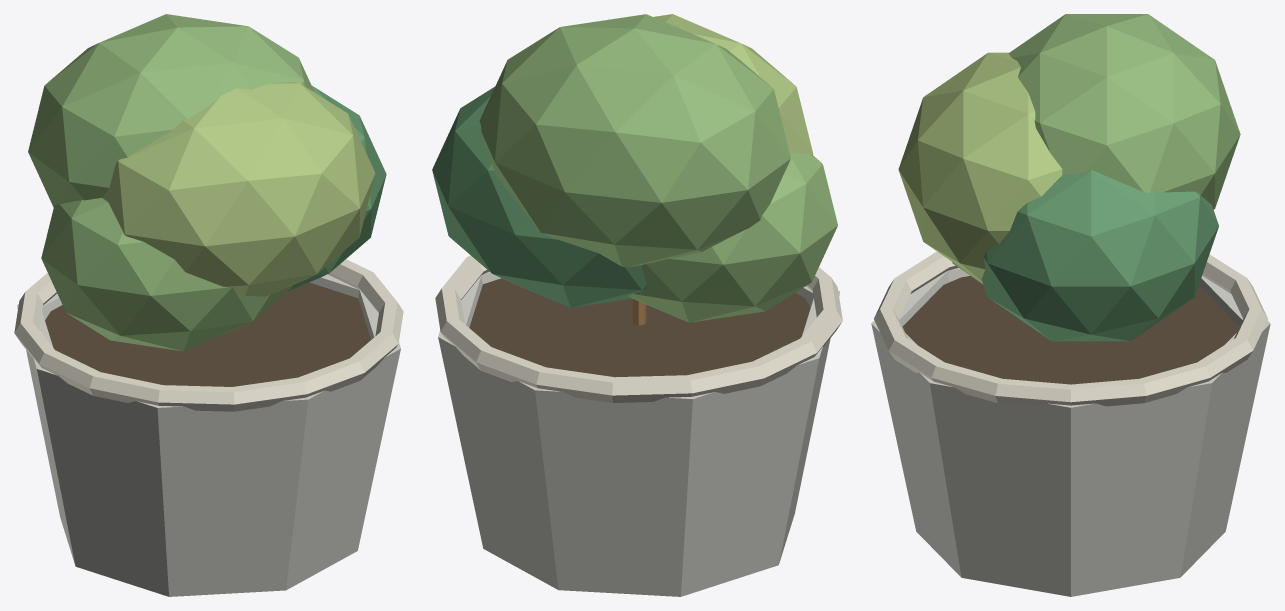
The model's file is Planter_Decorative.glb.
3 views of the same model, side by side, from view 1: azimuth 30°, elevation 25°; view 2: azimuth 150°, elevation 25°; view 3: azimuth 270°, elevation 25° (orthographic). The views are drawn at different scales.
Visible parts, largest first — view 1: Planter_Decorative; view 2: Planter_Decorative; view 3: Planter_Decorative.
Part boxes in pixels (bbox=[...]): Planter_Decorative: bbox=[14, 14, 403, 596]; Planter_Decorative: bbox=[432, 14, 842, 596]; Planter_Decorative: bbox=[871, 14, 1270, 596].
Bounding box in the file's own units: 0.8 × 1.1 × 0.8.
